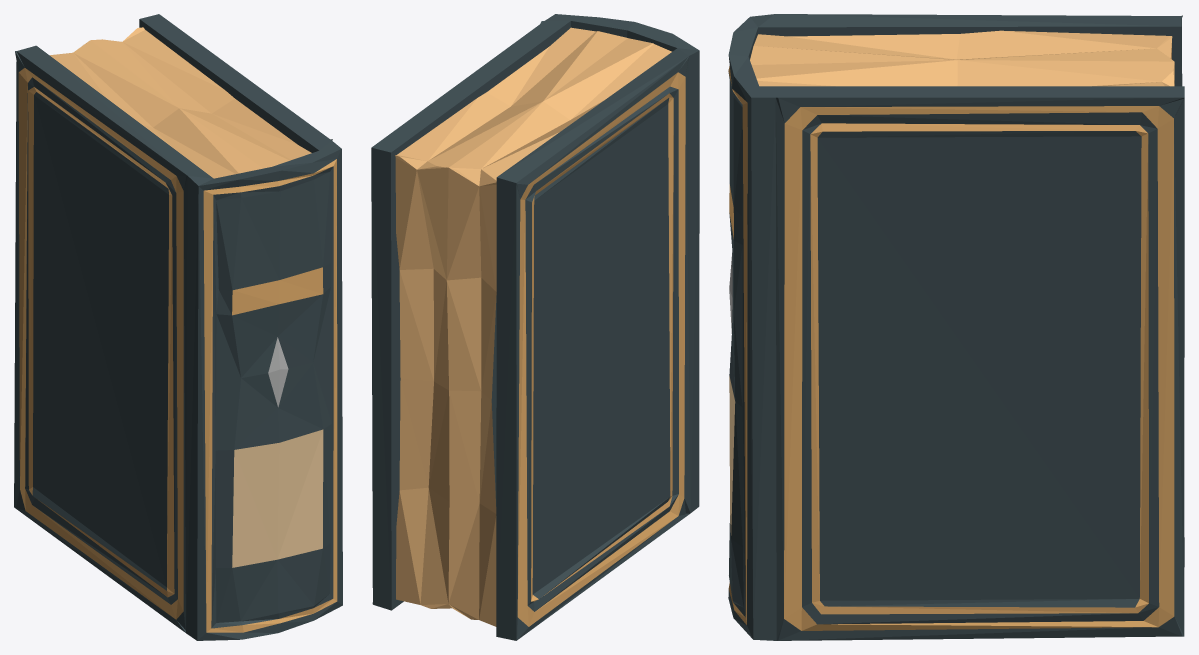
Rendered from SFHW_Book_021.fbx.
The picture shows the model from 3 angles, left to right: view 1: azimuth 30°, elevation 25°; view 2: azimuth 150°, elevation 25°; view 3: azimuth 270°, elevation 25°; orthographic projection. The views are drawn at different scales.
Visible parts, largest first — view 1: SFHW_Book_021; view 2: SFHW_Book_021; view 3: SFHW_Book_021.
Part boxes in pixels (box(x1,y1,x2,y2)): SFHW_Book_021: box(14, 14, 342, 640); SFHW_Book_021: box(371, 14, 699, 640); SFHW_Book_021: box(728, 14, 1184, 640).
Bounding box in the file's own units: 10.66 × 31.55 × 23.88.
